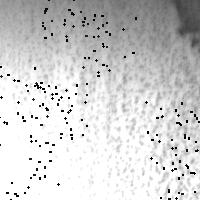pitted_surface: (14, 9, 188, 198), (27, 82, 86, 142), (0, 140, 57, 199), (145, 101, 198, 160), (82, 17, 135, 75), (0, 66, 48, 122), (42, 0, 102, 39), (156, 159, 200, 200), (174, 1, 200, 48)
